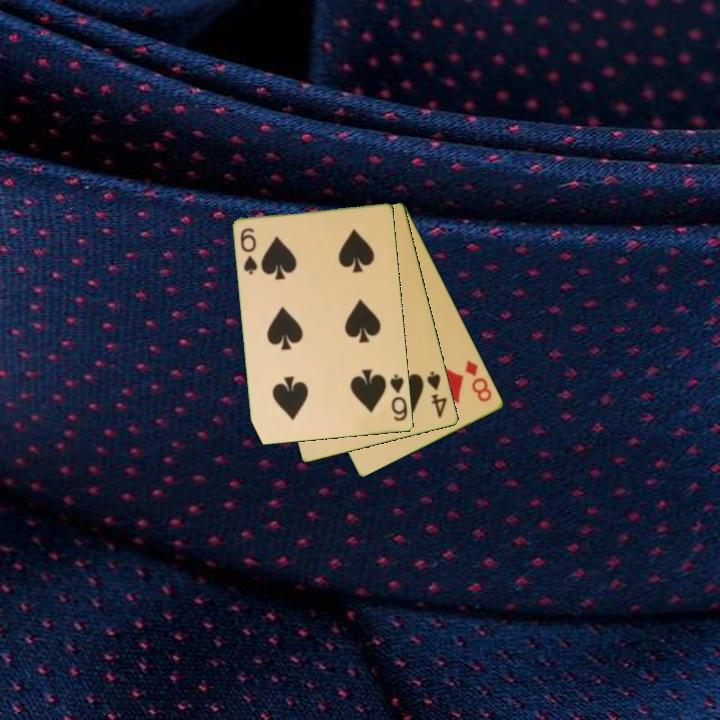4s: (424, 368, 450, 421)
6s: (237, 224, 261, 278), (387, 371, 411, 424)
8d: (462, 357, 495, 405)
